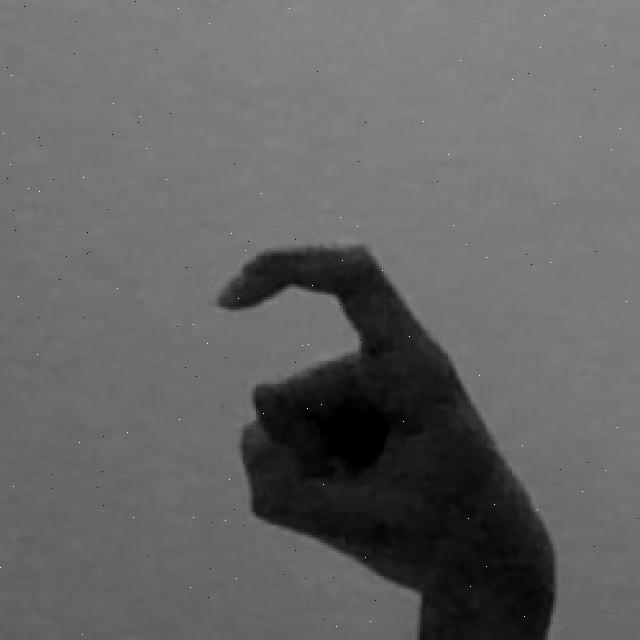X: (208, 230, 568, 640)
